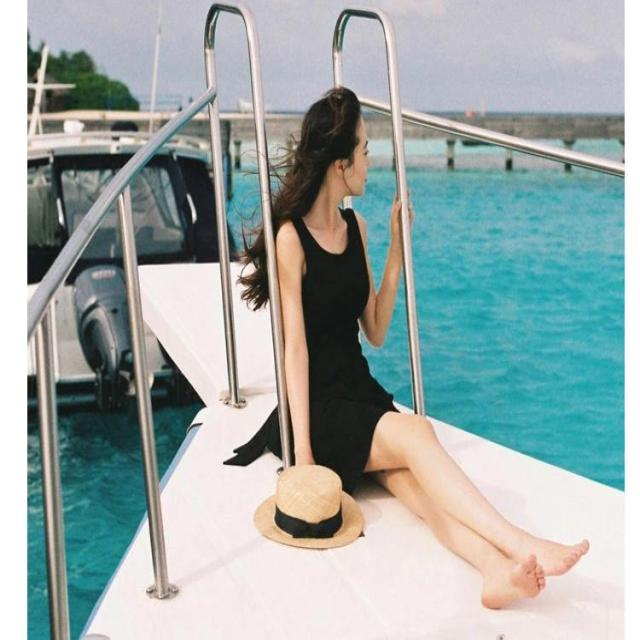vest dress: (269, 208, 401, 502)
